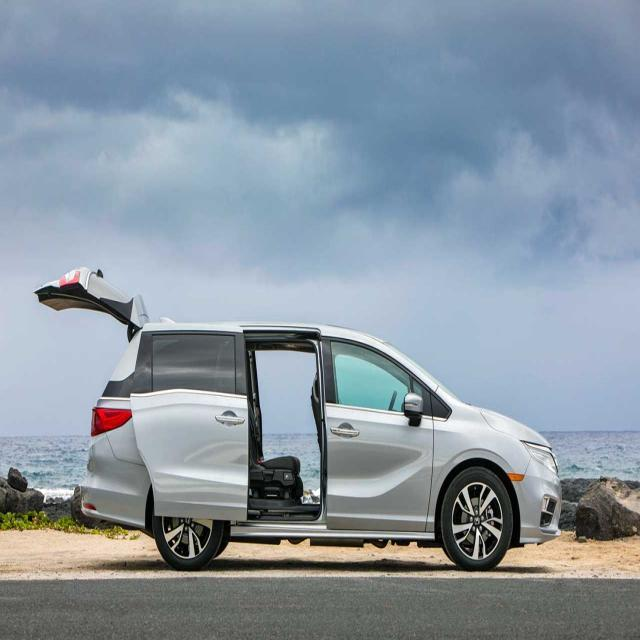minivan: (33, 266, 563, 572)
